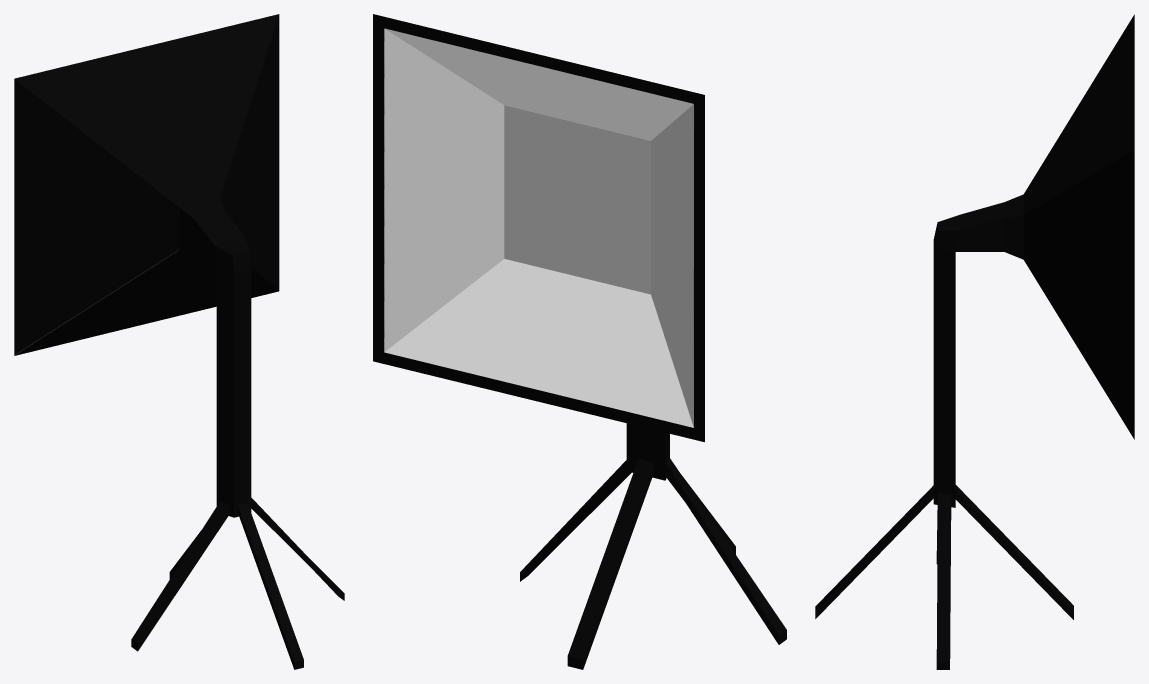
Rendered from Lamp.fbx.
The picture shows the model from 3 angles, left to right: view 1: azimuth 30°, elevation 25°; view 2: azimuth 150°, elevation 25°; view 3: azimuth 270°, elevation 25°; orthographic projection. The views are drawn at different scales.
Visible parts, largest first — view 1: Cube; view 2: Cube; view 3: Cube.
Boxes of the visible parts, x1,y1,x2,y2 form: Cube: (14,14,344,669); Cube: (373,14,786,669); Cube: (815,14,1134,669).
Size of the model in its own units: 185 by 341 by 184.
Materials: 1 (1 with a texture image).
